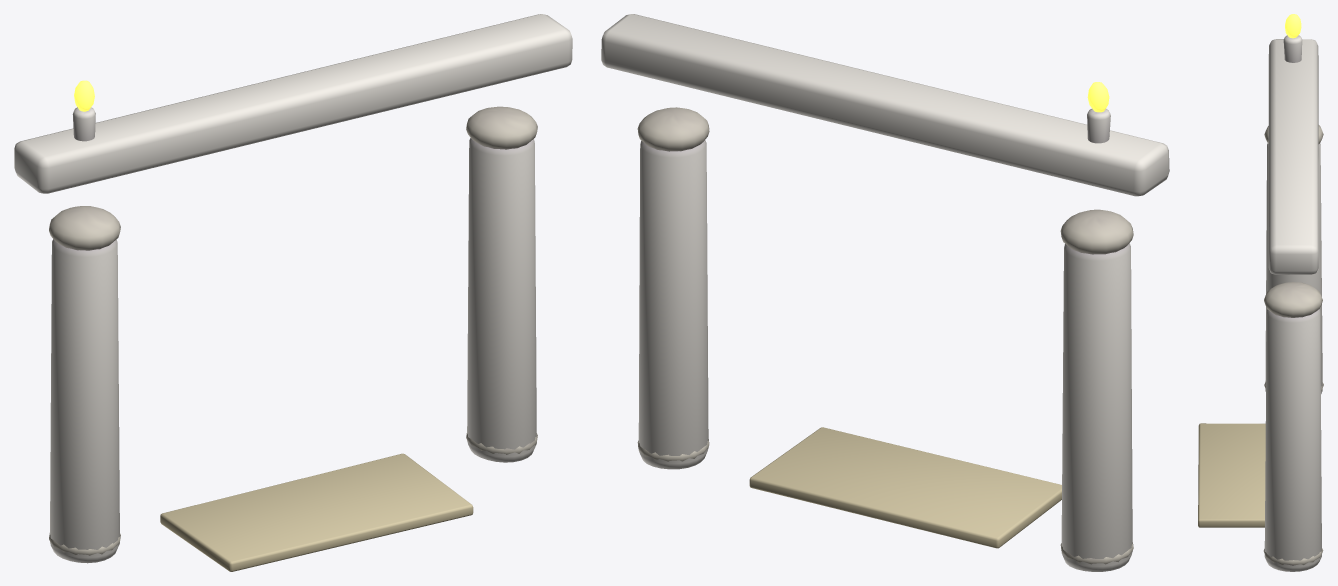
3 renders of one model, left to right at view 1: azimuth 30°, elevation 25°; view 2: azimuth 150°, elevation 25°; view 3: azimuth 270°, elevation 25°, orthographic. The views are drawn at different scales.
Parts seen in each view (by area): view 1: gate_6c22cb3c; view 2: gate_6c22cb3c; view 3: gate_6c22cb3c.
Boxes of the visible parts, left/top/right/bottom form: gate_6c22cb3c: left=14, top=14, right=572, bottom=571; gate_6c22cb3c: left=601, top=14, right=1169, bottom=571; gate_6c22cb3c: left=1198, top=14, right=1323, bottom=571.
Bounding box in the file's own units: 5.26 × 4.44 × 1.32.
